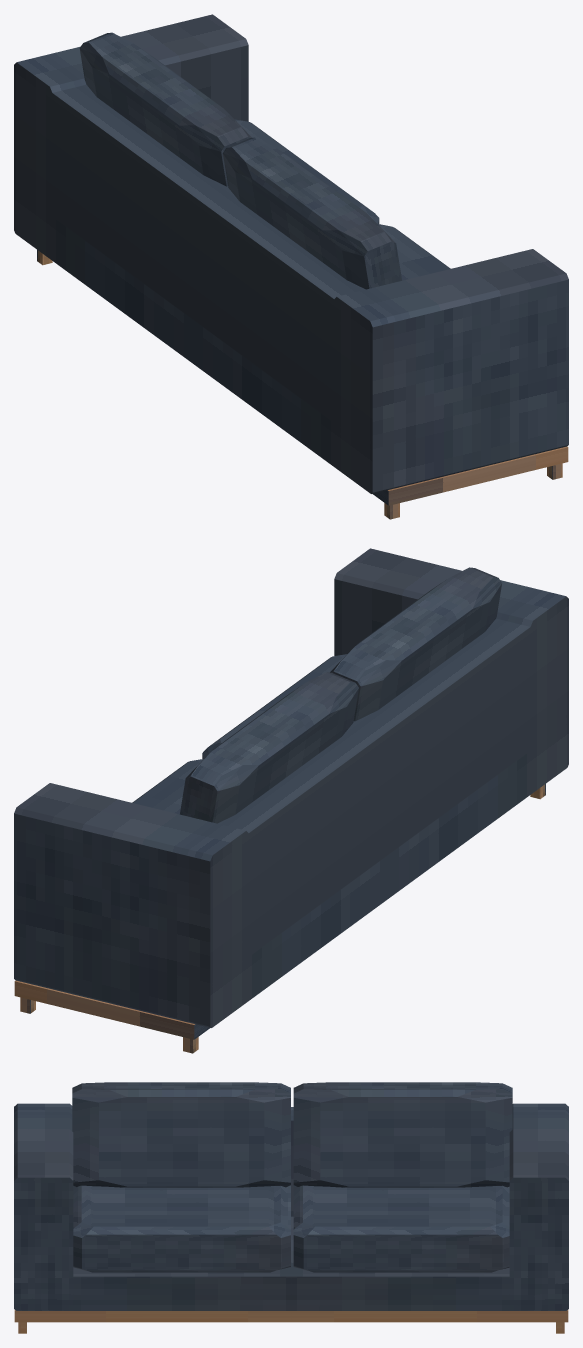
File: sofa.glb
The picture shows the model from 3 angles, top to bottom: view 1: azimuth 30°, elevation 25°; view 2: azimuth 150°, elevation 25°; view 3: azimuth 270°, elevation 25°; orthographic projection. The views are drawn at different scales.
Visible parts, largest first — view 1: Cube.002; view 2: Cube.002; view 3: Cube.002.
Part boxes in pixels (bbox=[...]): Cube.002: bbox=[14, 14, 568, 519]; Cube.002: bbox=[14, 548, 568, 1053]; Cube.002: bbox=[14, 1082, 568, 1333].
Size of the model in its own units: 4.69 by 5.71 by 14.85.
1 material, 1 textured.
